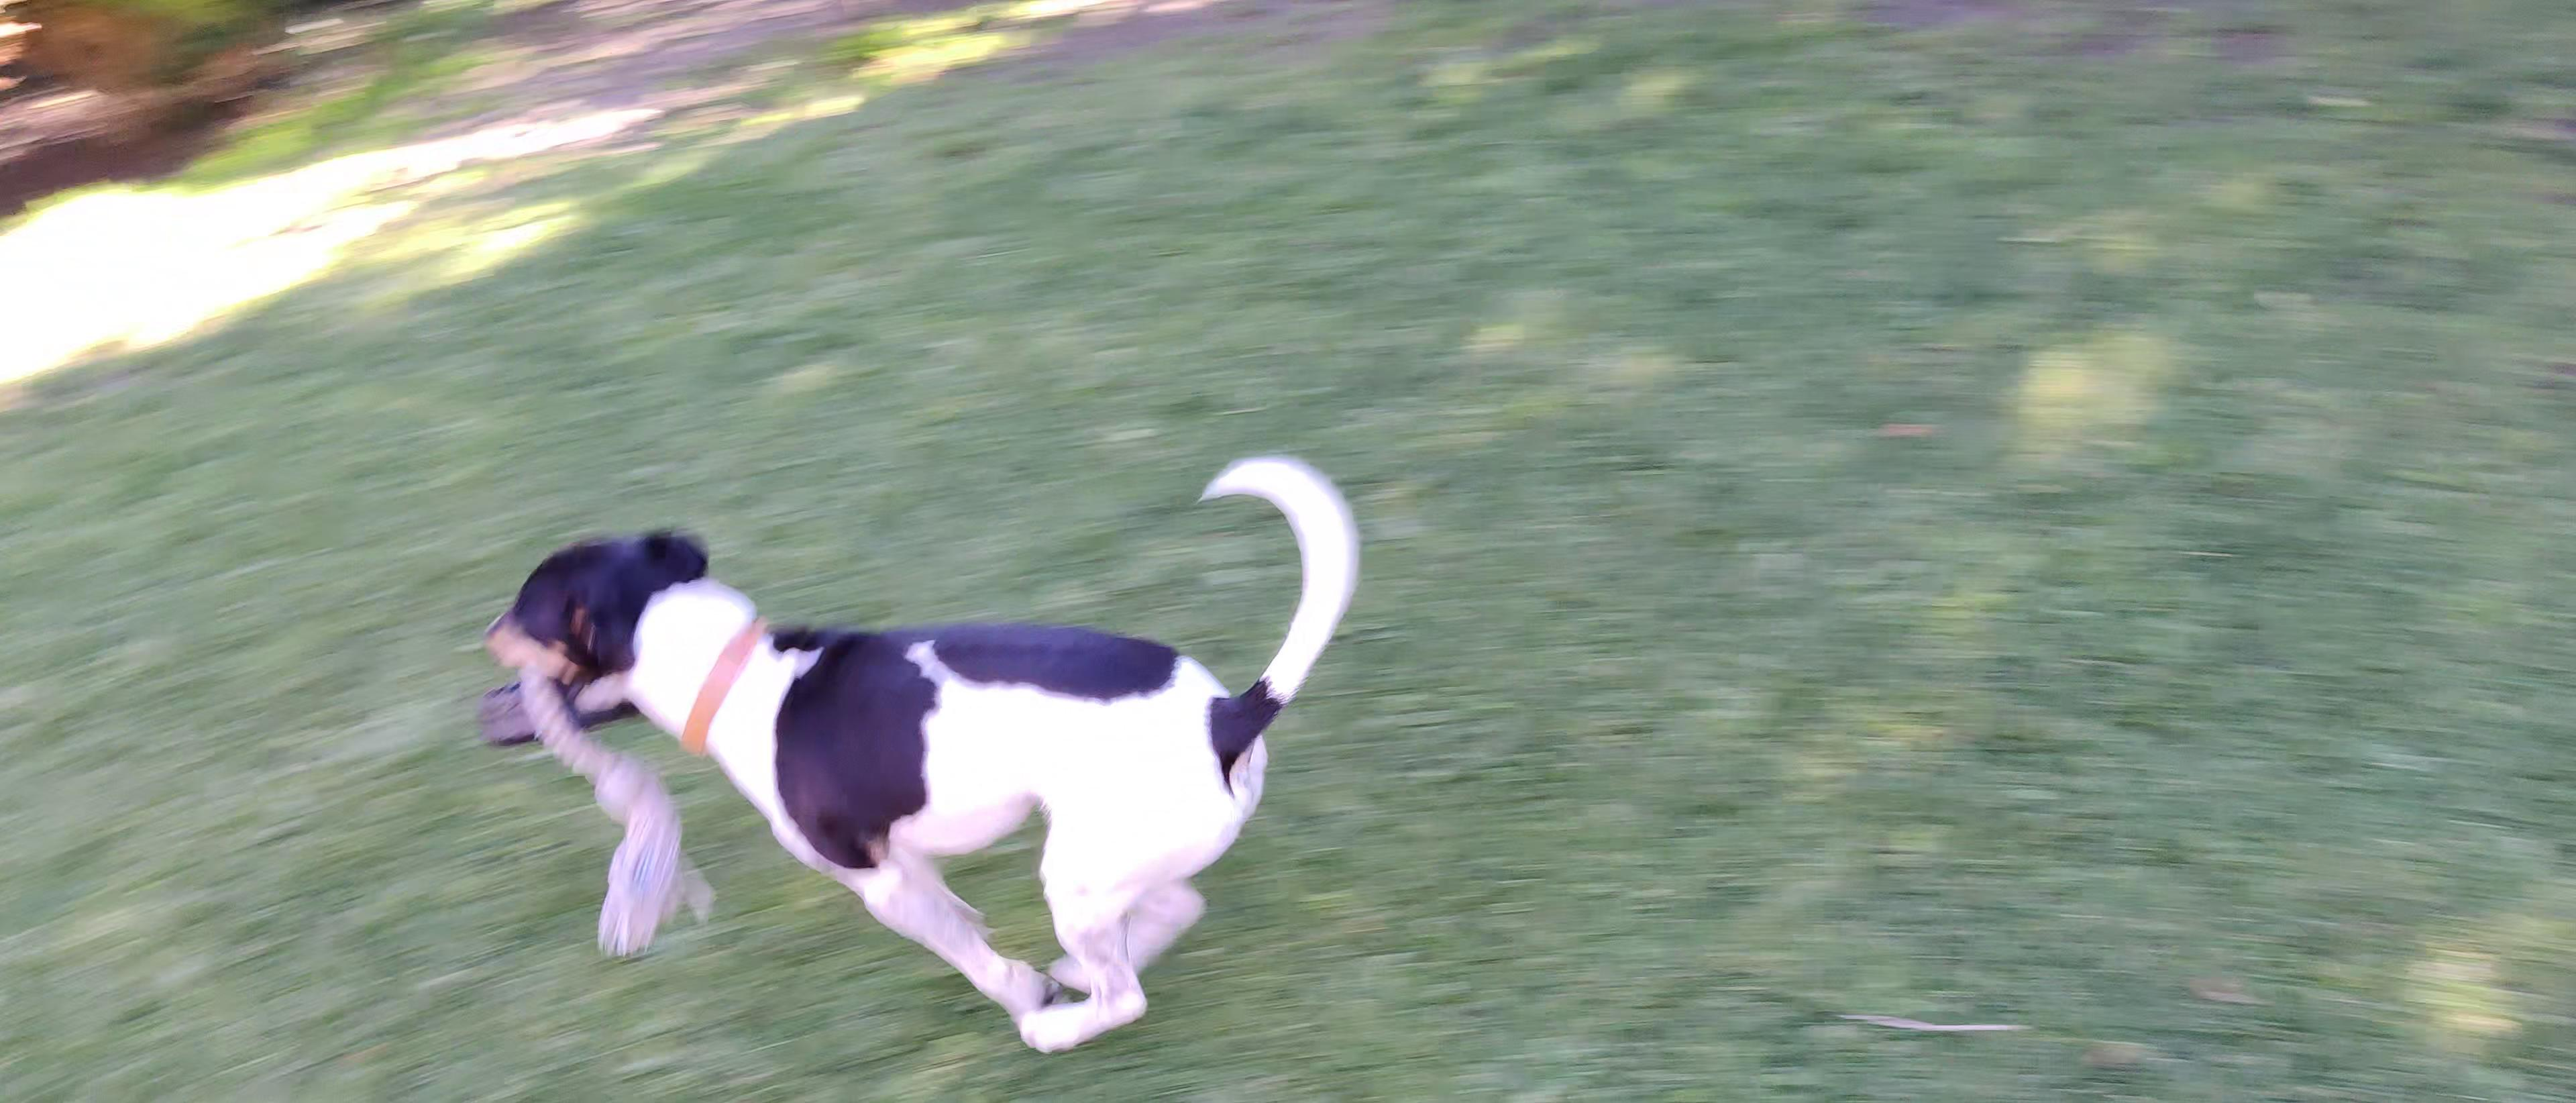Dog: (471, 401, 1375, 1064)
